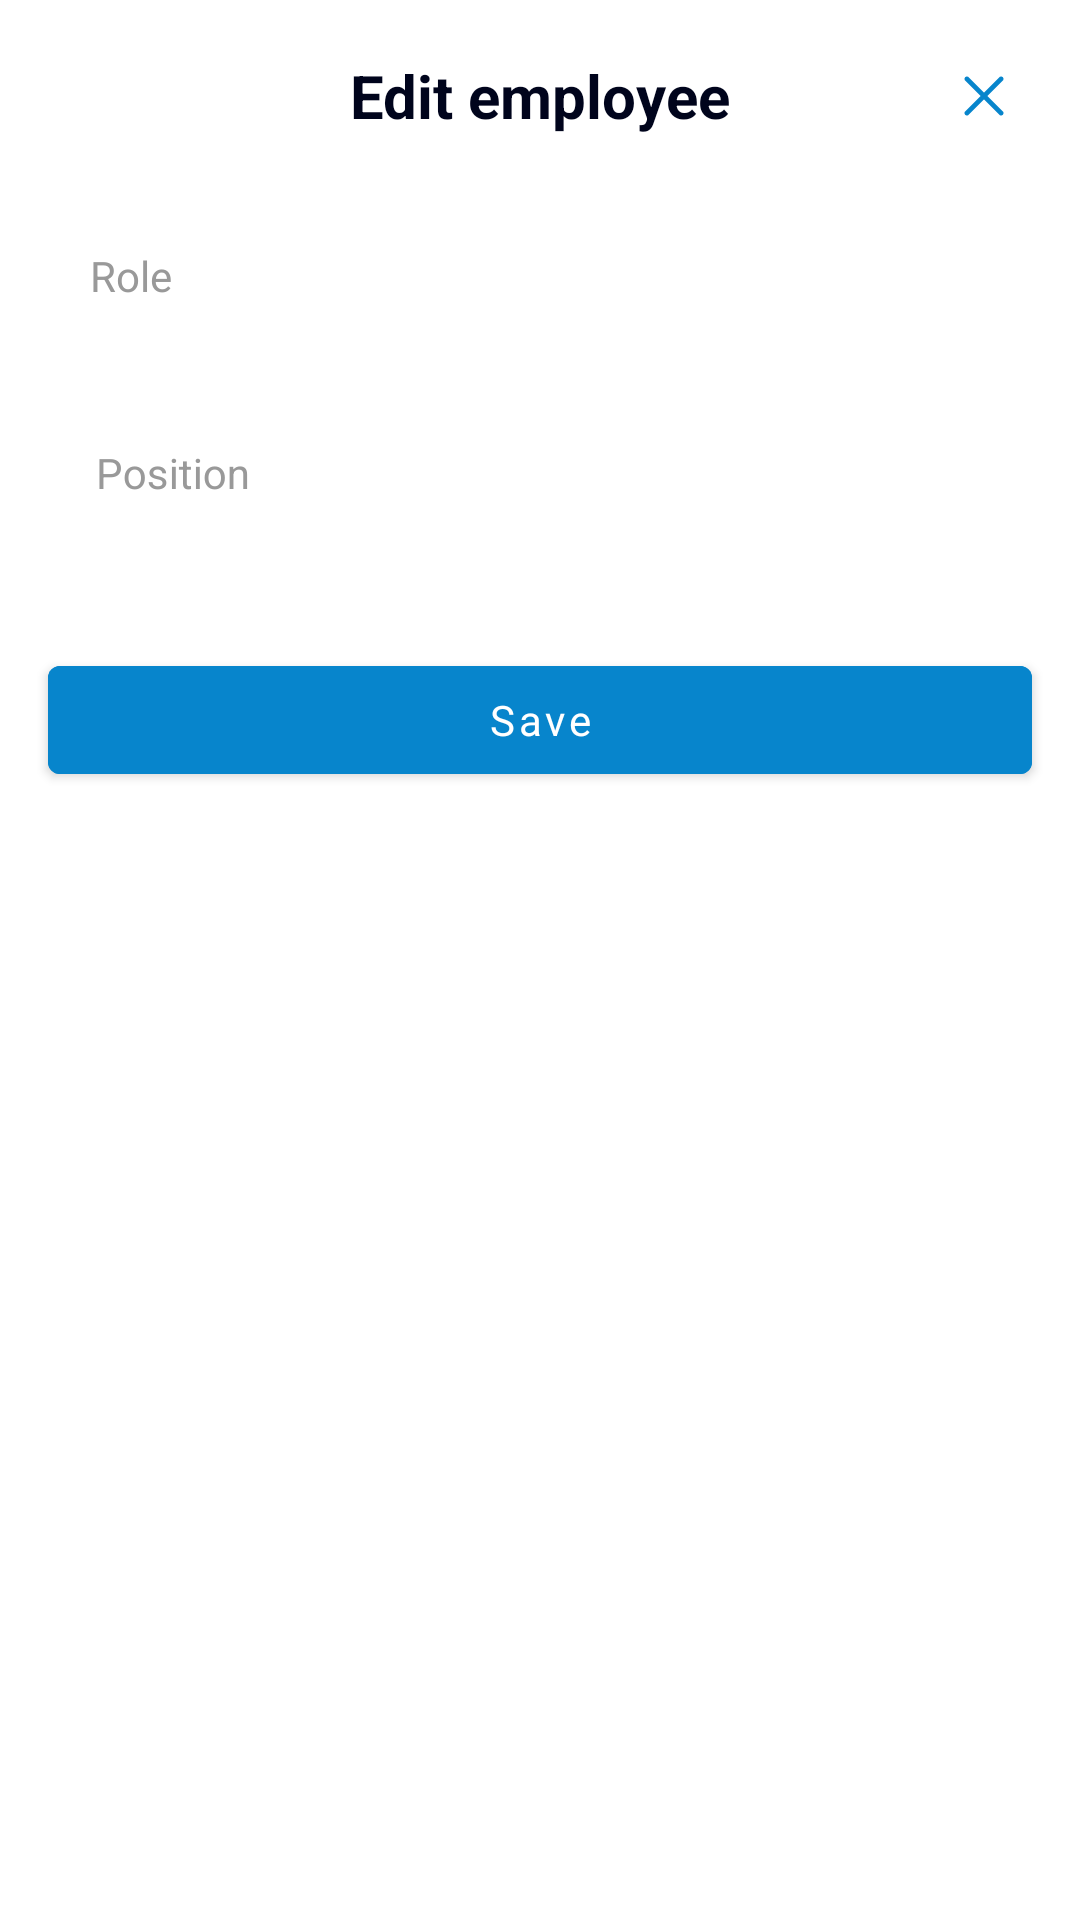

Screen size 1080 x 1920. Icon name, then its center in pixels as point (x, y):
close: point (984, 96)
